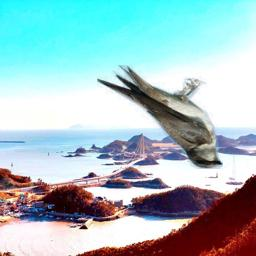Swallow: (97, 65, 223, 169)
